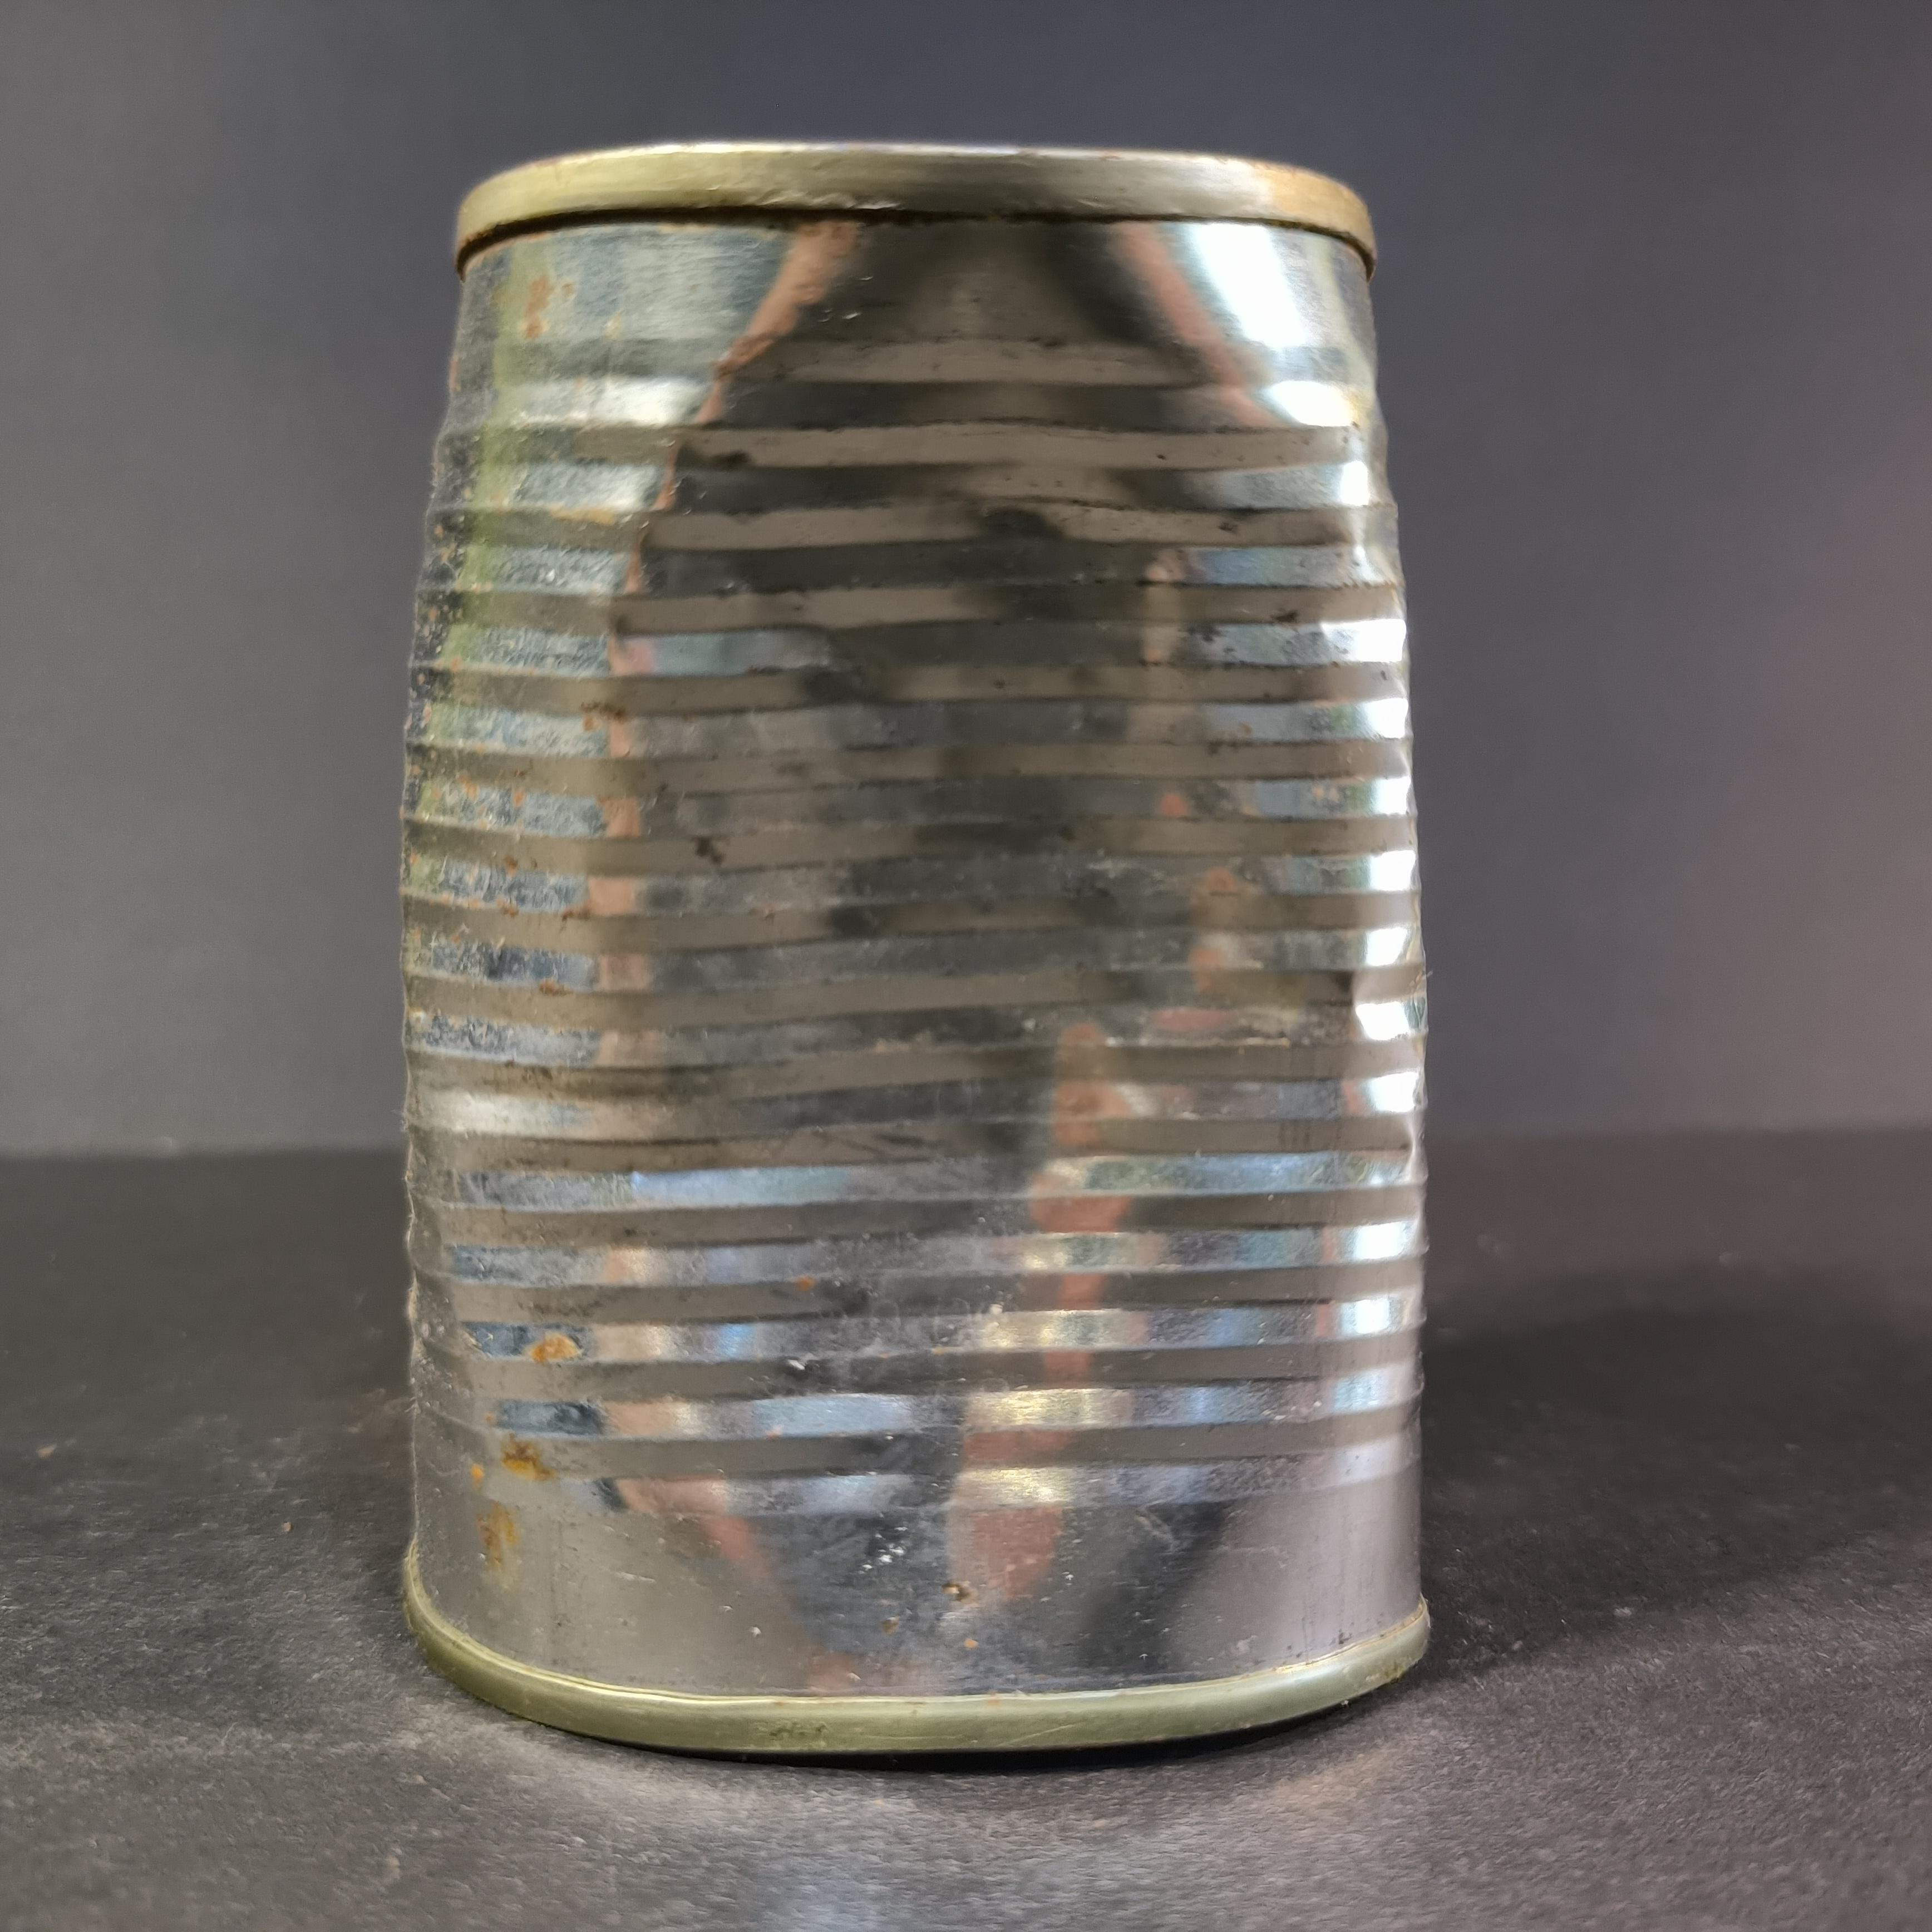Dented: (364, 94, 1468, 1767)
